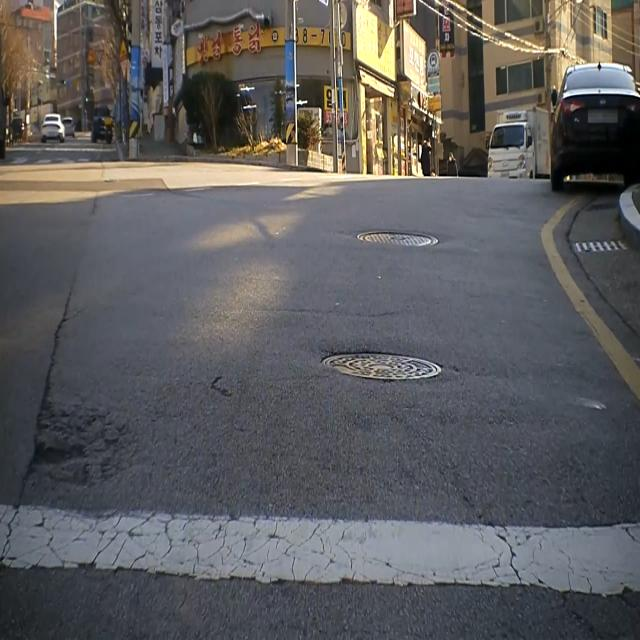Pothole: (10, 395, 126, 494)
